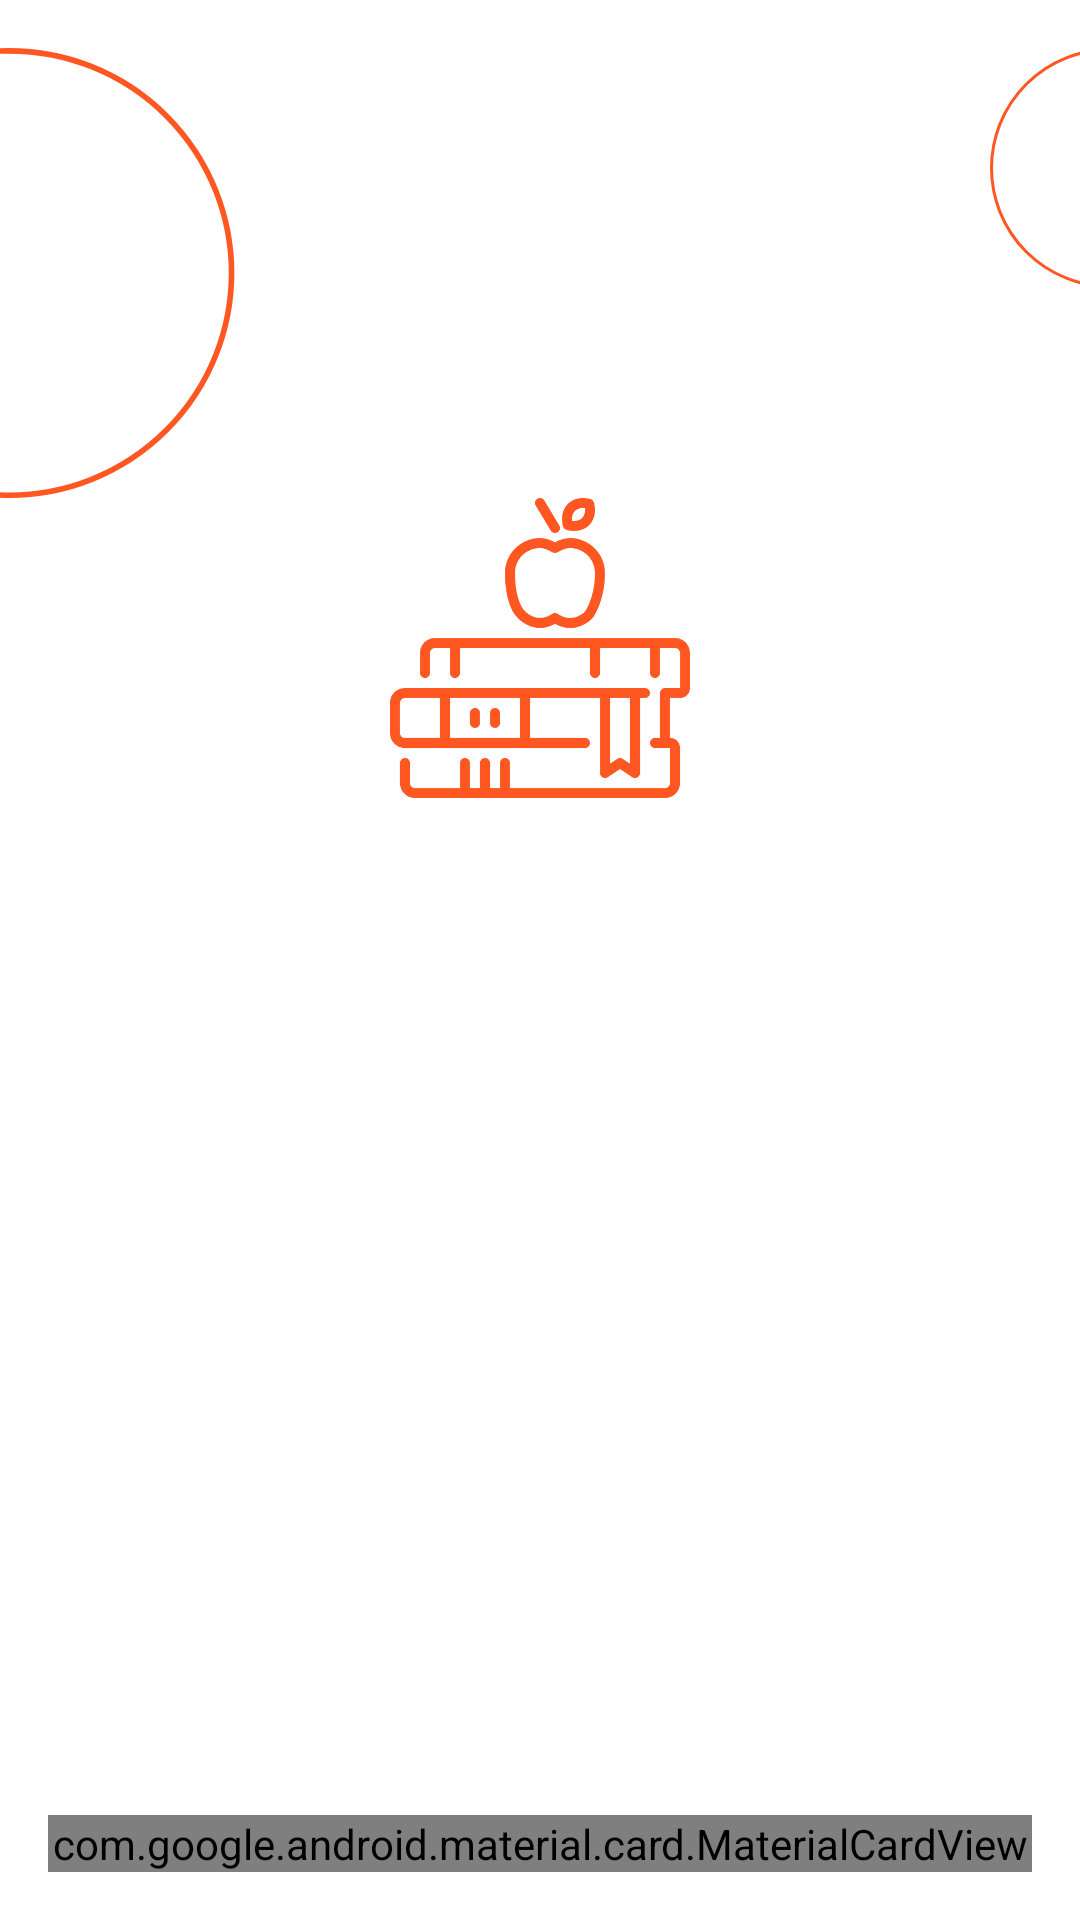

Screen size 1080px x 1920px. Icon name, then its box in pixels as [left=x1, top=y1, right=x2, bottom=y2]:
books: [left=390, top=498, right=690, bottom=798]
